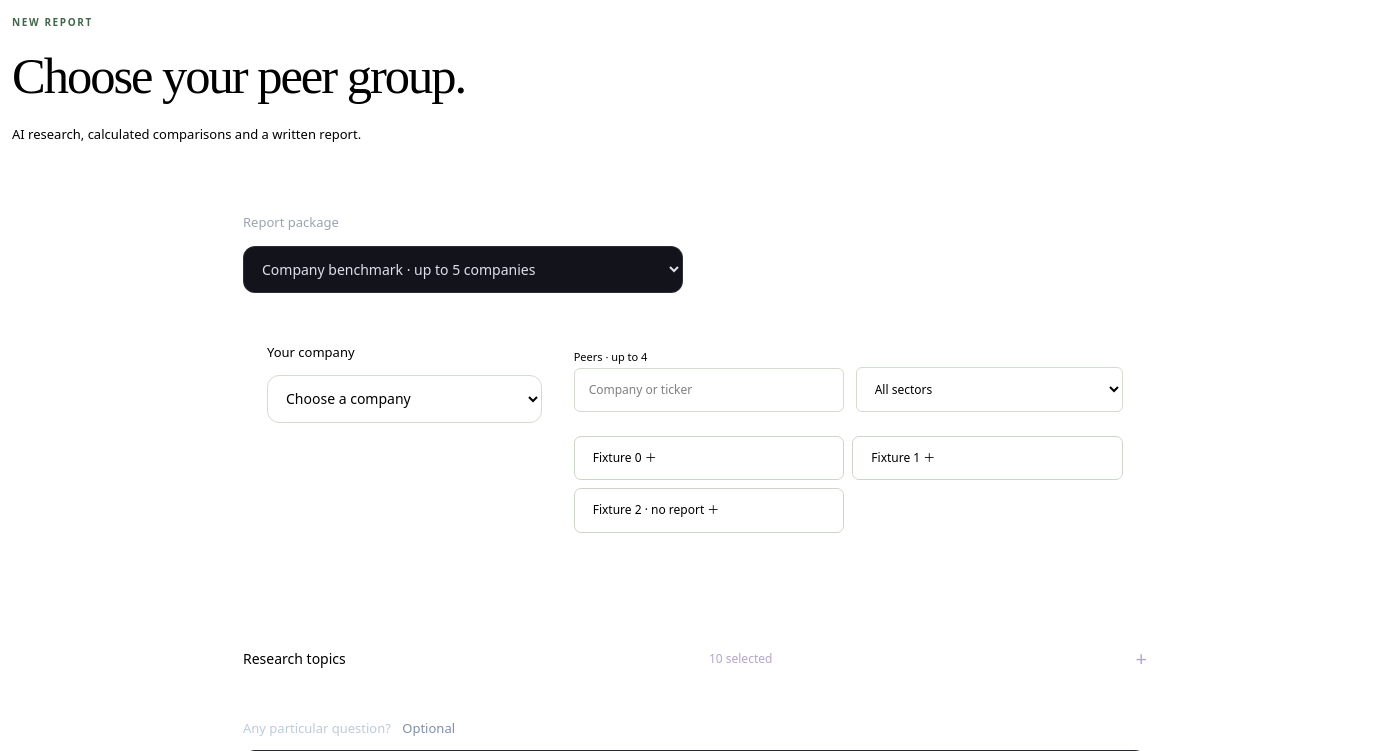
Test: shows a resumable allowance pause and never loops on a rejected step
Select "Fixture 0" in the dropdown named "Primary company" at [404, 399], box [267,375,542,423]
(page scrolled)
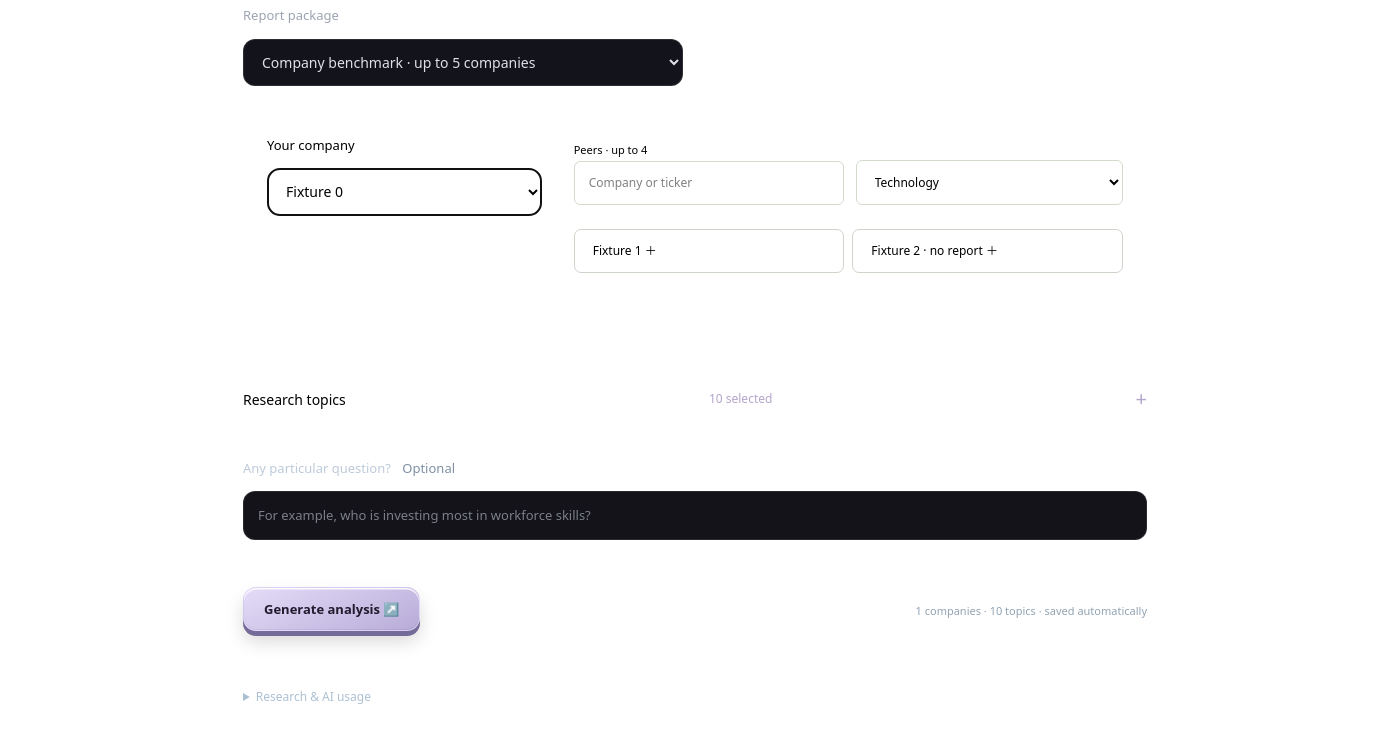
Click the button "Generate analysis ↗" at [332, 612], box [243,587,420,636]
(page scrolled)
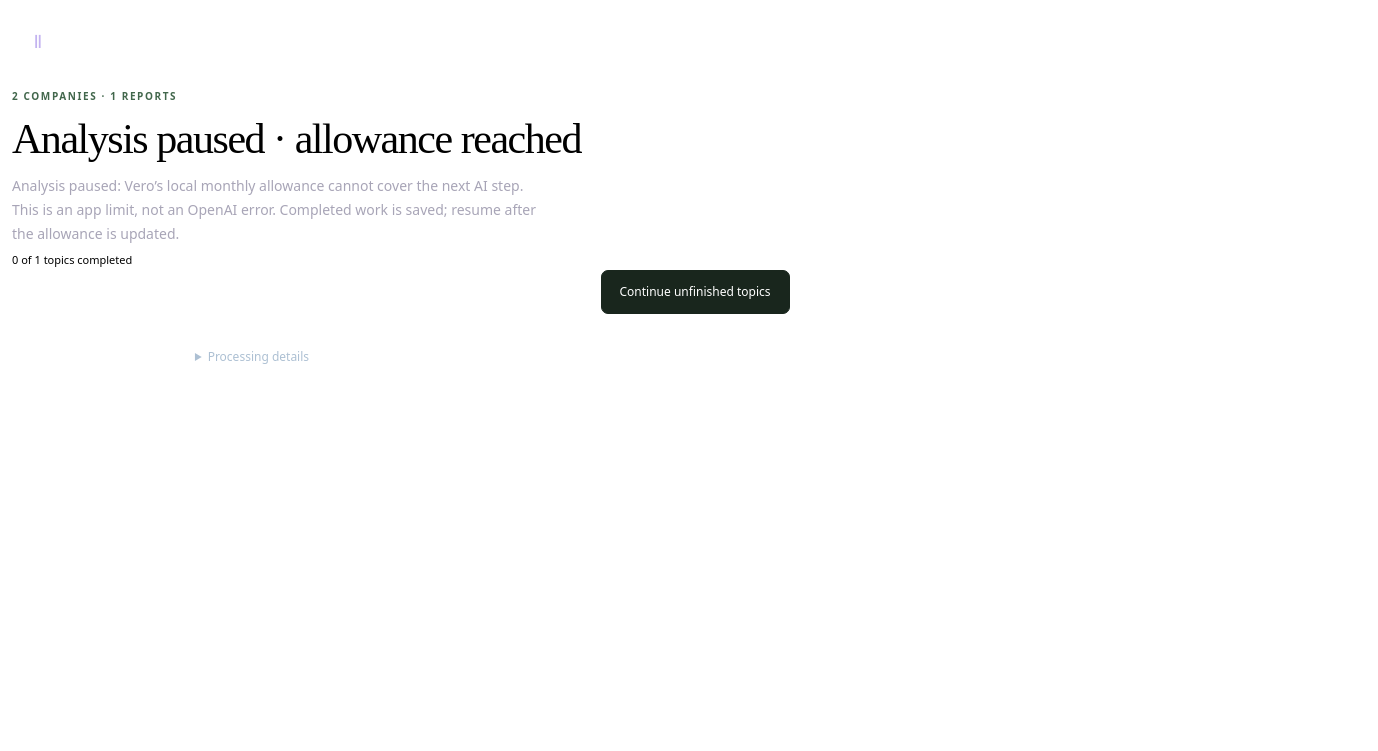
Expected: the heading "Analysis paused · allowance reached" is shown, [12,116,581,162]
Expected: the message shows "not an OpenAI error", [12,176,536,243]
Expected: the button "Continue unfinished topics" is enabled, [600,270,790,314]
